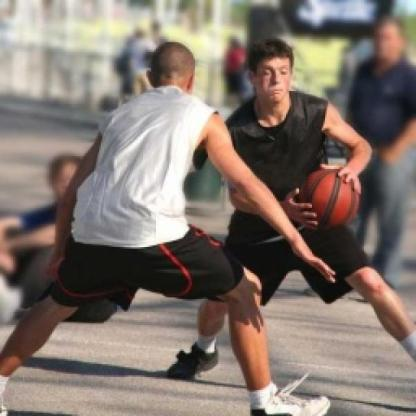basketball: (292, 161, 363, 226)
